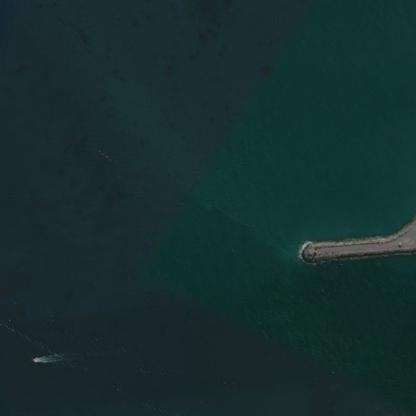ship: (31, 356, 36, 362)
